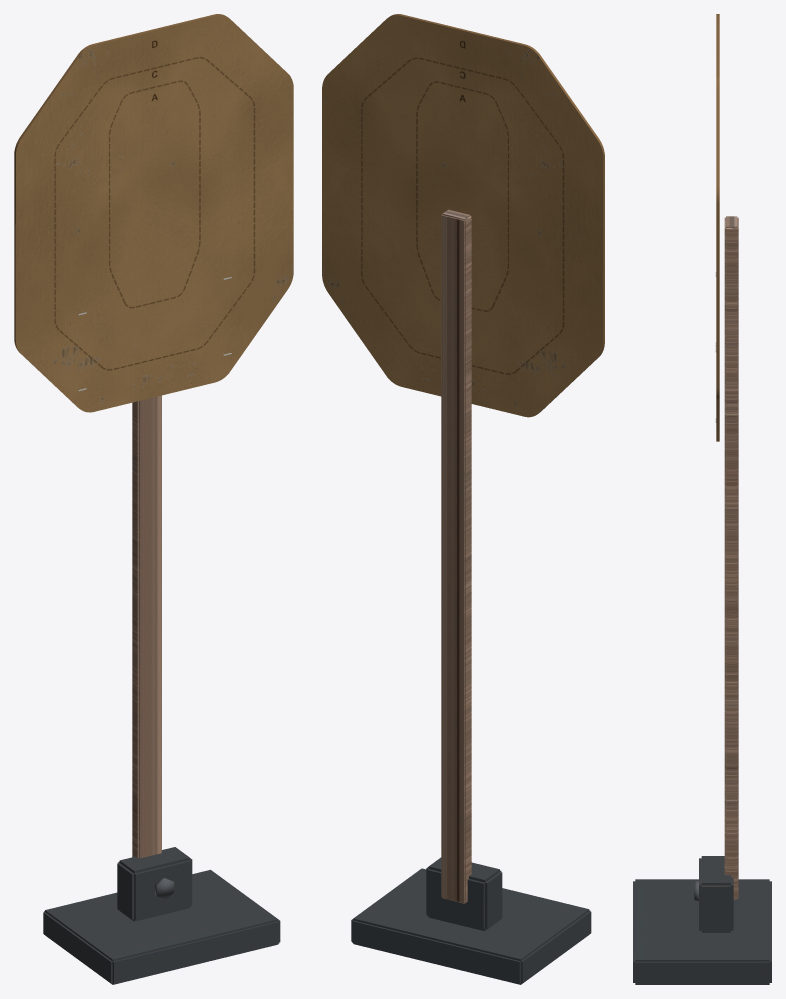
File: obj_paper_swinger.glb
3 views of the same model, side by side, from view 1: azimuth 30°, elevation 25°; view 2: azimuth 150°, elevation 25°; view 3: azimuth 270°, elevation 25° (orthographic).
Parts seen in each view (by area): view 1: card, paper_swinger_body; view 2: card, paper_swinger_body; view 3: paper_swinger_body, card.
Part boxes in pixels (x1,y1,x2,y2): card: (14,14,293,412); paper_swinger_body: (43,395,280,984); card: (322,14,604,417); paper_swinger_body: (351,209,591,984); paper_swinger_body: (633,216,771,984); card: (716,14,719,441).
Bounding box in the file's own units: 0.46 × 1.43 × 0.2.
Materials: 5 (2 with a texture image).
